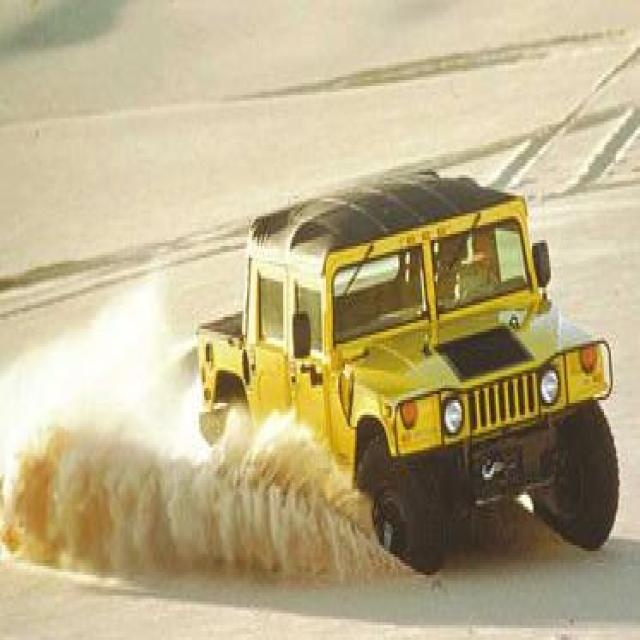Truck: (184, 176, 632, 612)
